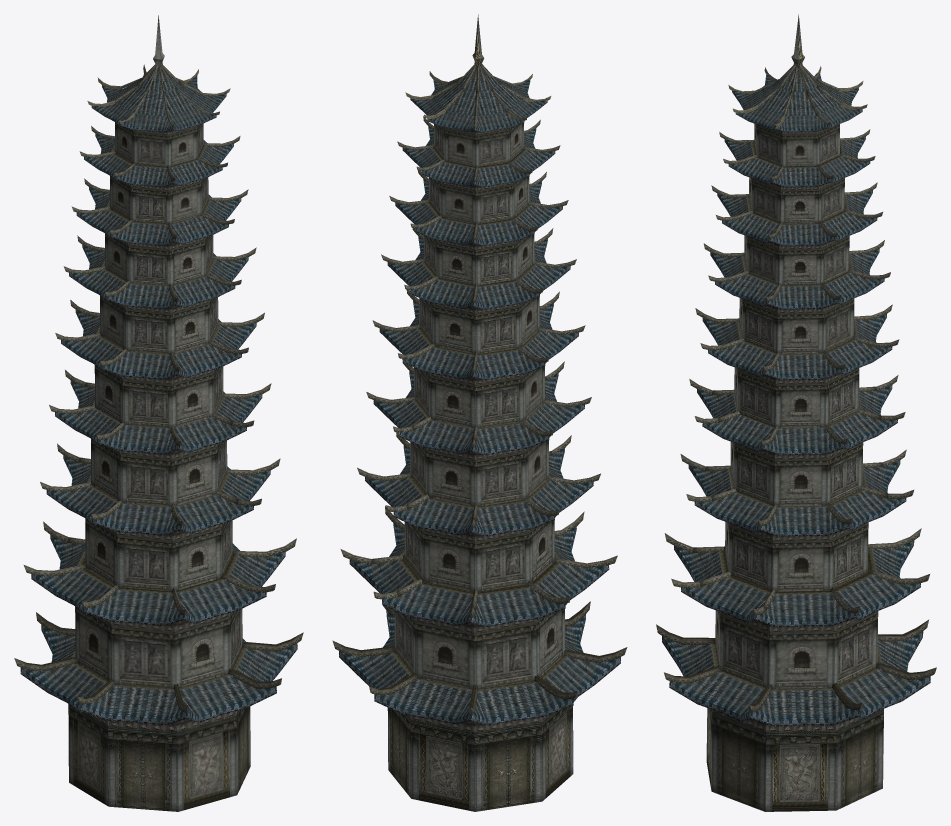
The model's file is bigmap_ta01.FBX.
3 views of the same model, side by side, from view 1: azimuth 30°, elevation 25°; view 2: azimuth 150°, elevation 25°; view 3: azimuth 270°, elevation 25° (orthographic).
Parts seen in each view (by area): view 1: zhenyaota05, zhenyaota02; view 2: zhenyaota05, zhenyaota02; view 3: zhenyaota05, zhenyaota02.
Part boxes in pixels (<box>): zhenyaota05: <box>14,15,303,811</box>; zhenyaota02: <box>75,122,242,688</box>; zhenyaota05: <box>332,14,627,811</box>; zhenyaota02: <box>394,123,565,688</box>; zhenyaota05: <box>656,14,936,811</box>; zhenyaota02: <box>715,123,878,688</box>.
Bounding box in the file's own units: 3.43 × 3.43 × 10.27.
